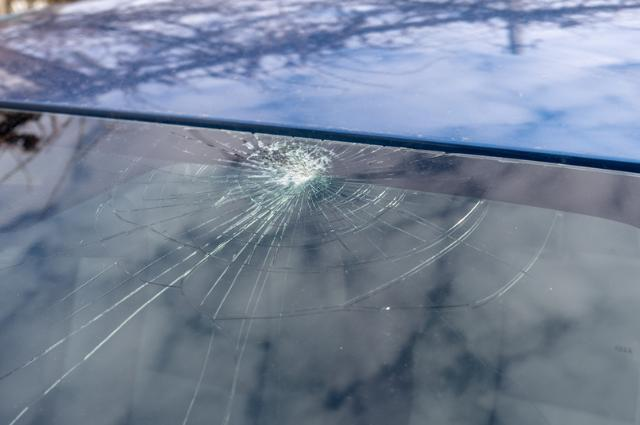Windshield: (13, 111, 569, 425)
